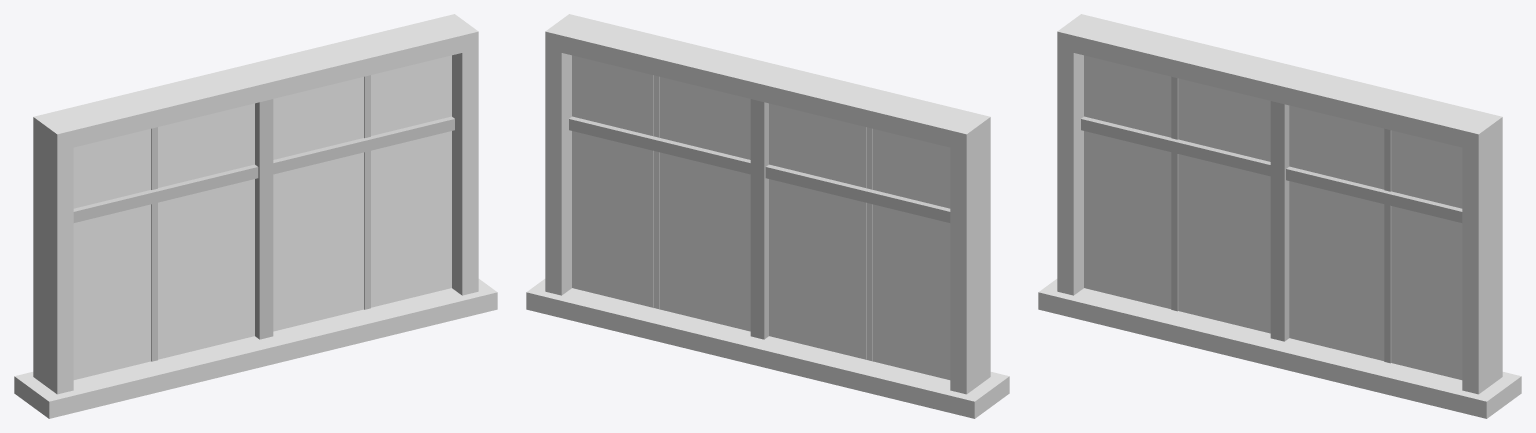
Rendered from window_017.fbx.
The picture shows the model from 3 angles, left to right: view 1: azimuth 30°, elevation 25°; view 2: azimuth 150°, elevation 25°; view 3: azimuth 330°, elevation 25°; orthographic projection.
Visible parts, largest first — view 1: window_017; view 2: window_017; view 3: window_017.
Boxes of the visible parts, <box> form: window_017: <box>14,14,497,418</box>; window_017: <box>526,14,1009,418</box>; window_017: <box>1038,14,1521,418</box>.
Size of the model in its own units: 318 by 42.75 by 188.
